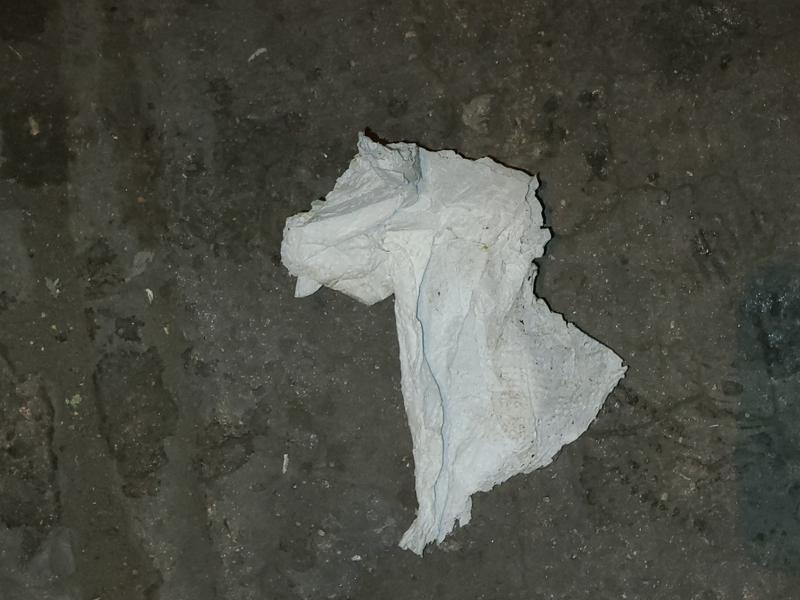papel: (280, 130, 627, 556)
